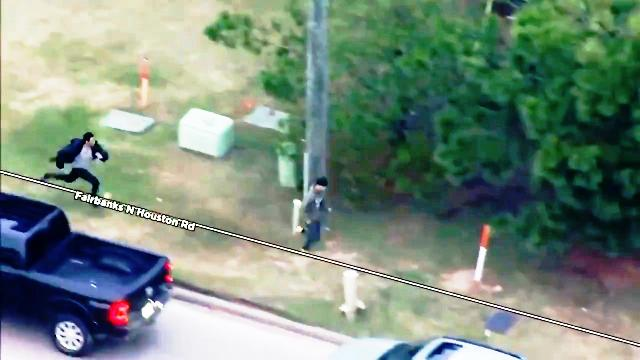berlari: (34, 122, 112, 200), (284, 168, 328, 255)
